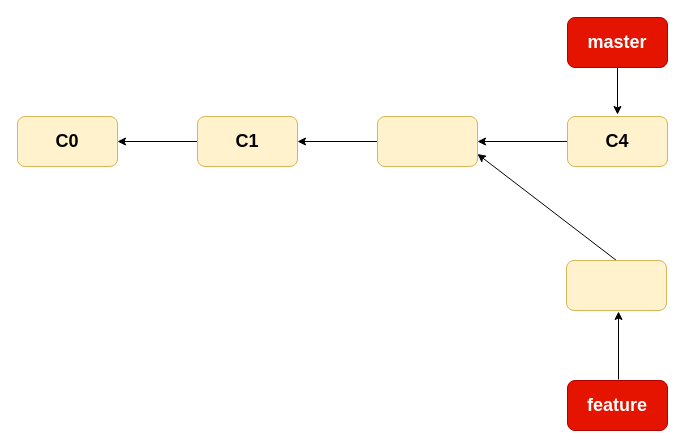
Image size: 685x448. Some labels were removed from this diagram. The box of each missing label's shape, as (x1, y1, x2, y2) in pixels:
C2: (376, 116, 478, 166)
C3: (566, 260, 666, 310)
